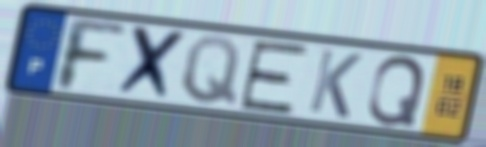E: (235, 38, 313, 116)
F: (55, 14, 130, 94)
K: (305, 46, 365, 121)
Q: (178, 34, 243, 109), (365, 53, 429, 128)
X: (111, 22, 191, 105)
